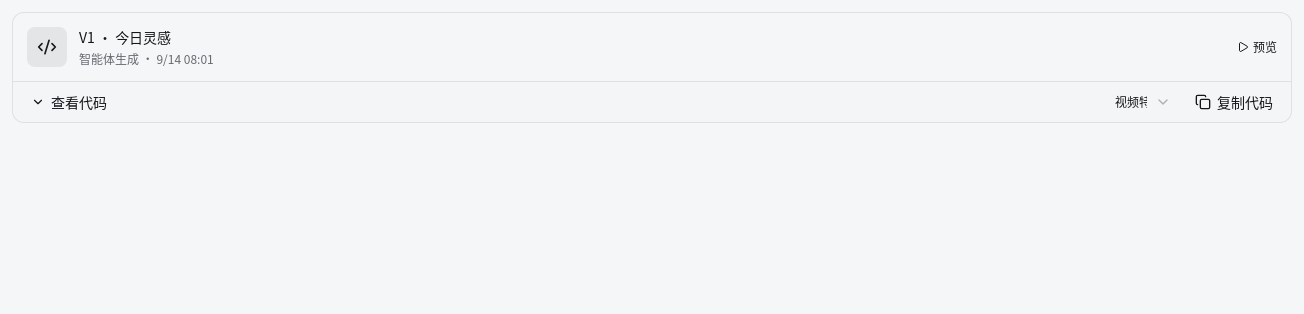
Test: 代码读取重试与剪贴板失败恢复
Click the button with aria-label "展开 V1 代码". click: (69, 102)
box: left=21, top=86, right=117, bottom=118
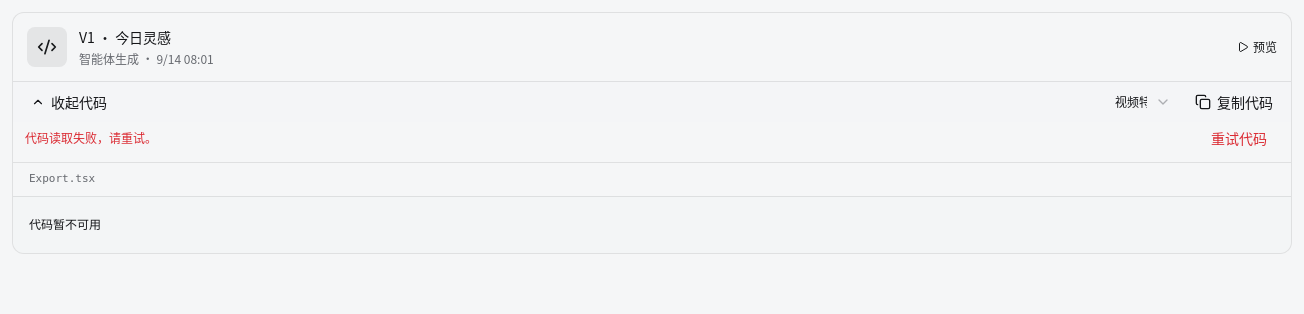
Expected: the text "代码读取失败，请重试。" is shown, left=25, top=129, right=157, bottom=146
Click the button "重试代码". click: (1239, 138)
box: left=1199, top=122, right=1279, bottom=154
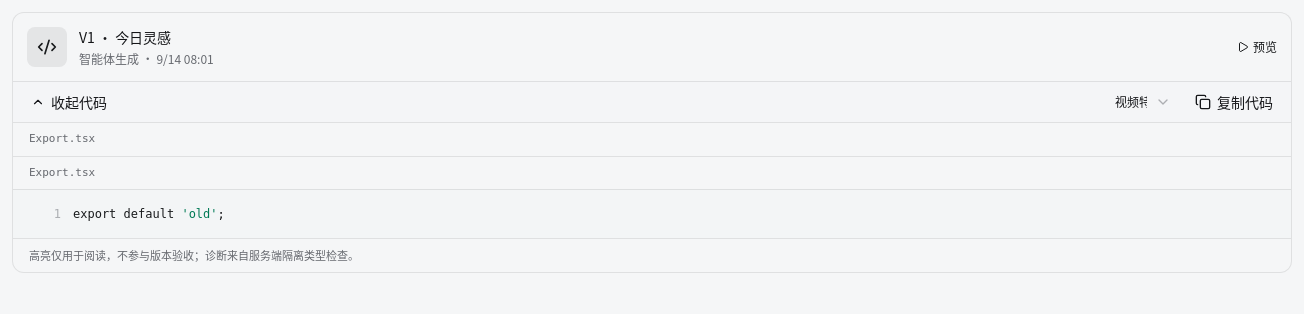
Expected: the element showing "export default 'old';" is shown, left=73, top=207, right=225, bottom=221
Click the button with aria-label "展开 V1 代码". click: (69, 102)
box: left=21, top=86, right=117, bottom=118
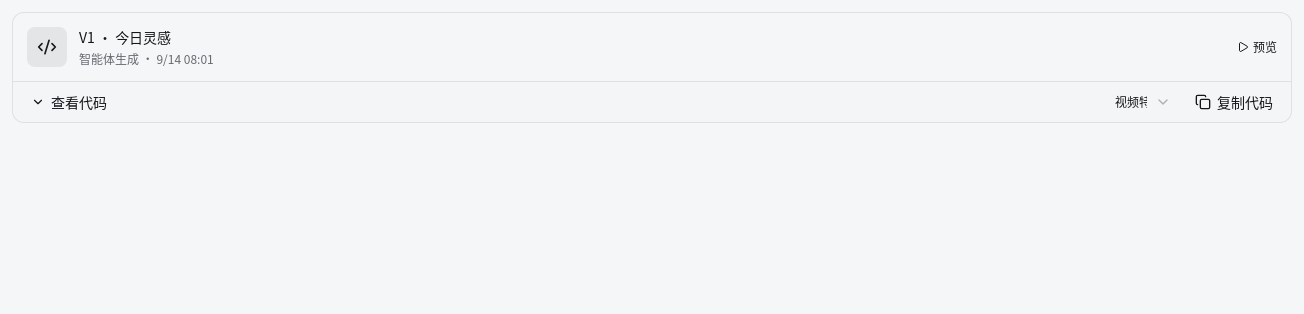
Click the button "复制代码". click: (1234, 102)
box: left=1185, top=86, right=1283, bottom=118
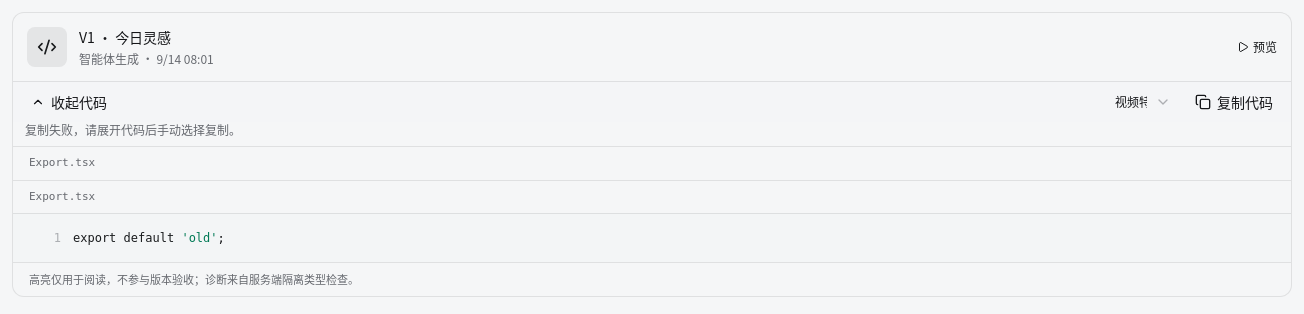
Expected: the text "复制失败，请展开代码后手动选择复制。" is shown, left=25, top=121, right=241, bottom=138
Expected: the element showing "export default 'old';" is shown, left=73, top=231, right=225, bottom=245
